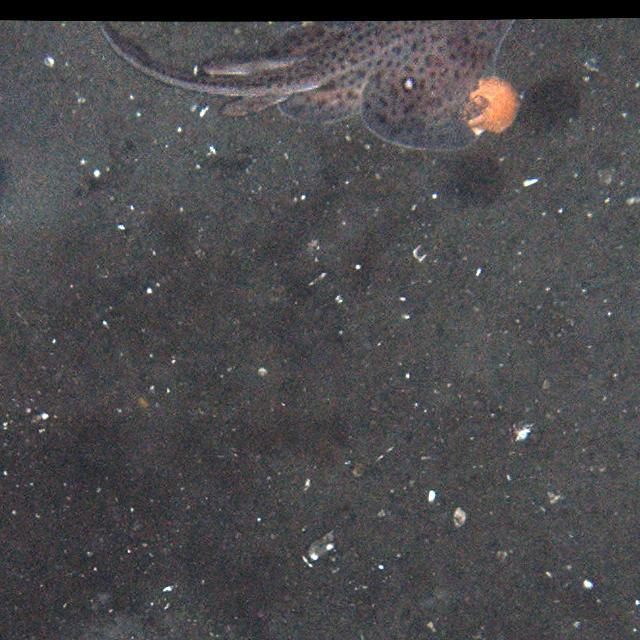skate: (91, 18, 526, 151)
